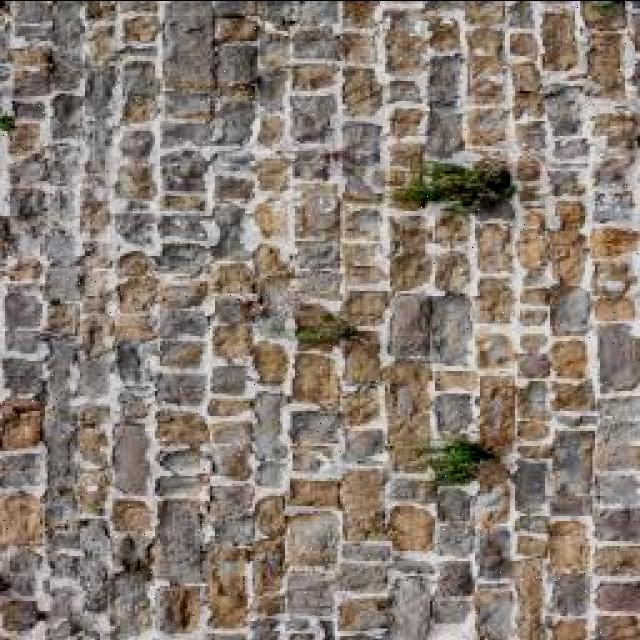crack: (1, 1, 638, 638)
vegetation: (394, 156, 516, 213), (422, 438, 495, 485)
